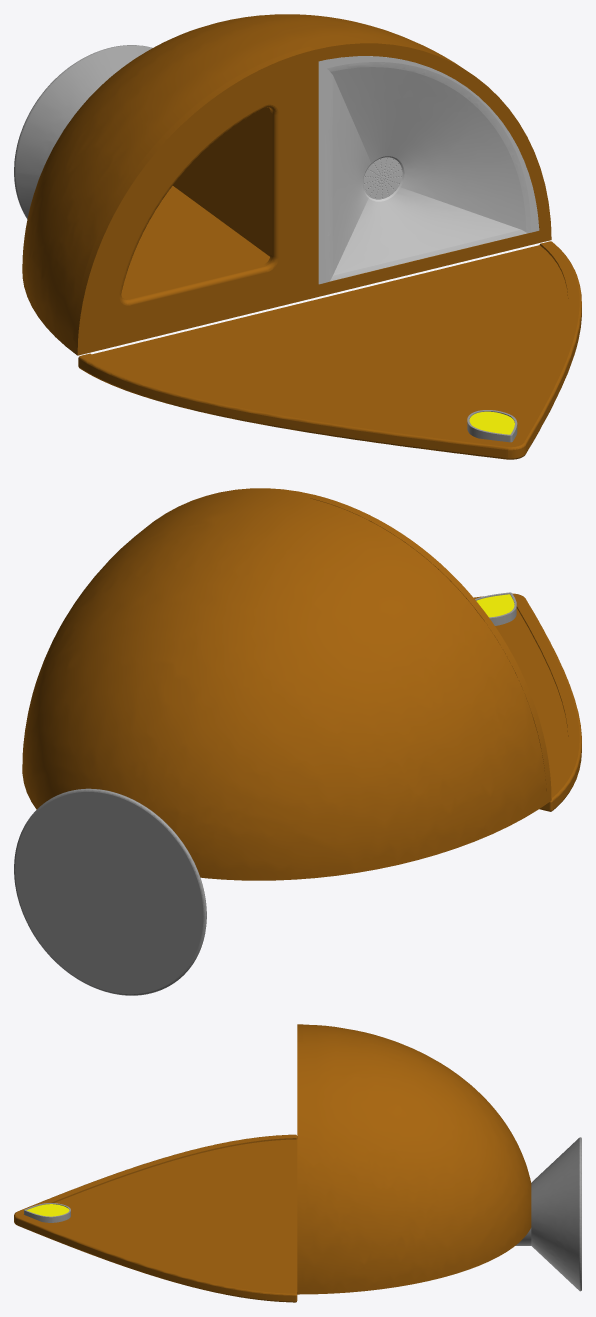
Rendered from OilContainerOrange.glb.
The picture shows the model from 3 angles, top to bottom: view 1: azimuth 30°, elevation 25°; view 2: azimuth 150°, elevation 25°; view 3: azimuth 270°, elevation 25°; orthographic projection. The views are drawn at different scales.
Parts seen in each view (by area): view 1: empty_4, empty_5, empty_8, empty_2, empty_3, empty_6, empty_10, empty_9, empty_7; view 2: empty_5, empty_10, empty_4, empty_2; view 3: empty_5, empty_4, empty_10, empty_7, empty_9.
Boxes of the visible parts, x1,y1,x2,y2 form: empty_4: (78,241,581,459); empty_5: (22,14,551,355); empty_8: (318,56,539,284); empty_2: (73,46,314,342); empty_3: (89,186,539,352); empty_6: (173,61,318,296); empty_10: (14,45,152,218); empty_9: (469,411,514,434); empty_7: (467,410,517,442); empty_5: (22,488,551,880); empty_10: (14,788,206,995); empty_4: (474,593,581,811); empty_2: (310,495,551,791); empty_5: (297,1024,531,1294); empty_4: (14,1134,297,1302); empty_10: (531,1137,581,1291); empty_7: (24,1203,70,1222); empty_9: (26,1204,69,1216).
Bounding box in the file's own units: 1200 × 843 × 1795.
